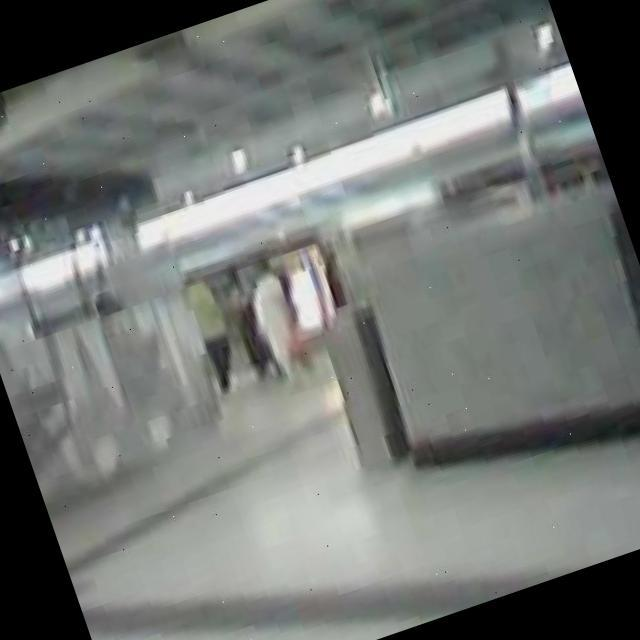person: (234, 250, 321, 385), (214, 252, 288, 384), (180, 269, 252, 400)
